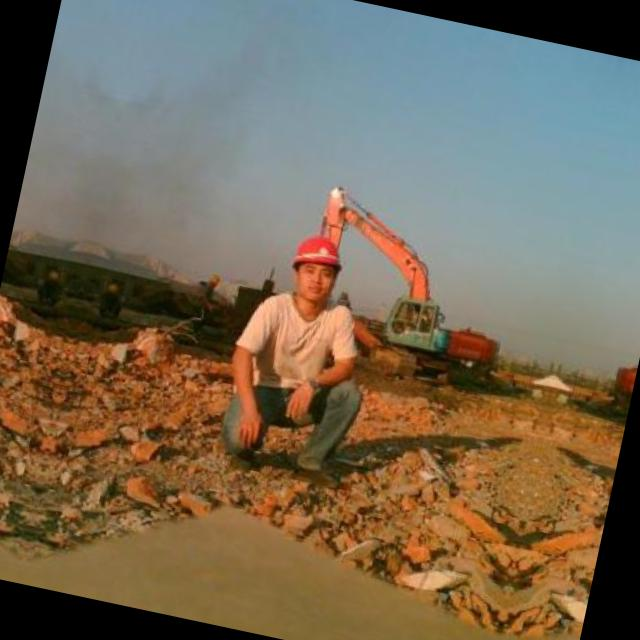helmet: (276, 222, 358, 320)
